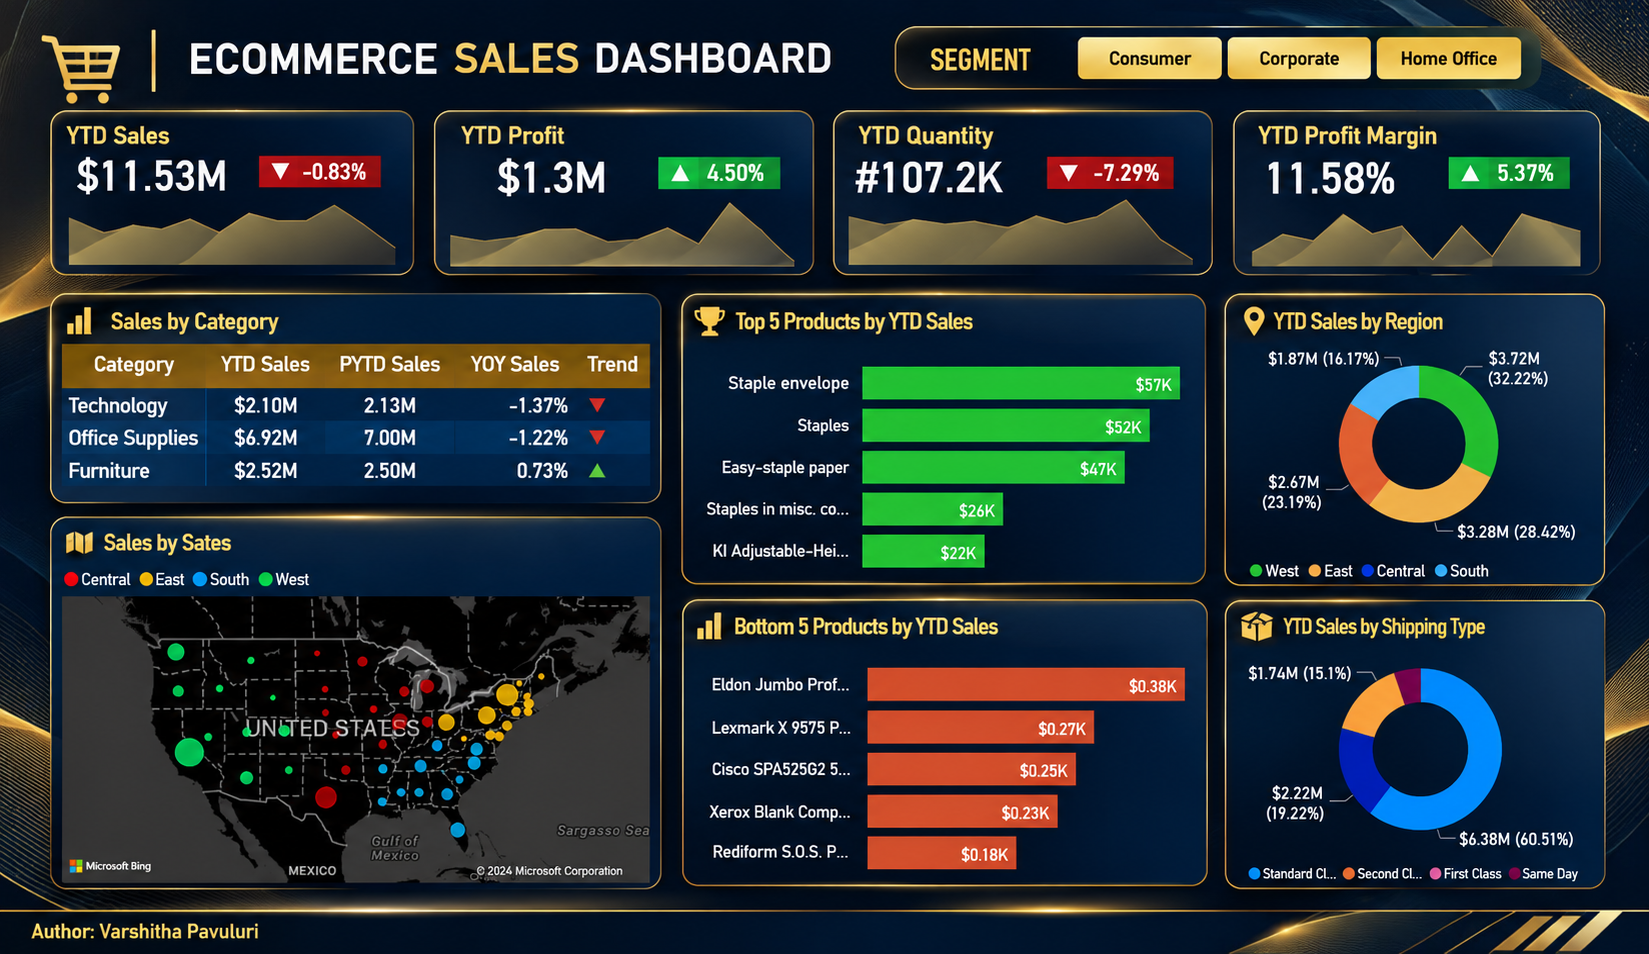

The page's visual inventory and layout, read from the dashboard file:
{"tool":"powerbi","page":{"name":"Page 1","canvas":[1280,720],"ordinal":0},"visuals":[{"type":"shape","box":[26.9,17.1,607.9,54.9],"z":0},{"type":"textbox","box":[30.5,13.4,628.7,64.7],"z":1000},{"type":"shape","box":[26,81.8,283.1,126],"z":2000},{"type":"card","fields":{"Values":["ecommerce_data.YTD Sales"]},"box":[30.5,102.5,130.6,53.7],"z":3000},{"type":"areaChart","fields":{"Category":["Calendar.Month"],"Y":["Sum(ecommerce_data.sales_per_order)"]},"box":[24.4,135.5,283.2,70.8],"z":4000},{"type":"shape","box":[186,114,100,24.4],"z":5000},{"type":"card","fields":{"Values":["ecommerce_data.YOY Sales"]},"box":[209.3,114,76.7,28],"z":6000},{"type":"card","fields":{"Values":["ecommerce_data.Sales Icon"]},"box":[164.8,112.3,76.9,29.3],"z":7000},{"type":"textbox","box":[45.2,84.2,101.3,31.7],"z":8000},{"type":"shape","box":[640.9,80.6,299.1,125.7],"z":9000},{"type":"card","fields":{"Values":["ecommerce_data.YTD Concatenated Qty"]},"box":[648.2,105,141.6,52.5],"z":10000},{"type":"areaChart","fields":{"Category":["Calendar.Month"],"Y":["Sum(ecommerce_data.order_quantity)"]},"box":[640.9,135.5,299.1,70.8],"z":11000},{"type":"shape","box":[814.3,115.3,100,24.4],"z":12000},{"type":"card","fields":{"Values":["ecommerce_data.YOY Qty"]},"box":[837.4,113.5,76.9,28.1],"z":13000},{"type":"card","fields":{"Values":["ecommerce_data.Qty Icon"]},"box":[793.4,114.7,75.7,29.3],"z":14000},{"type":"textbox","box":[664.5,84.4,129,31.4],"z":15000},{"type":"shape","box":[955.8,81.8,299.1,125.7],"z":16000},{"type":"areaChart","fields":{"Category":["Calendar.Month"],"Y":["ecommerce_data.Profit Margin"]},"box":[955.8,136.7,299.1,70.8],"z":17000},{"type":"shape","box":[1132.8,114.7,100.1,24.4],"z":18000},{"type":"card","fields":{"Values":["ecommerce_data.YOY Profit Margin"]},"box":[1156,114.7,76.9,26.9],"z":19000},{"type":"card","fields":{"Values":["ecommerce_data.Profit Margin Icon"]},"box":[1112,114.7,75.7,29.3],"z":20000},{"type":"textbox","box":[979,84.2,167.2,31.7],"z":21000},{"type":"card","fields":{"Values":["ecommerce_data.YTD Profit Margin"]},"box":[964.3,105,140.4,53.7],"z":22000},{"type":"shape","box":[23.2,224.6,489.5,159.9],"z":23000},{"type":"shape","box":[324.7,80.6,299.1,128.2],"z":24000},{"type":"card","fields":{"Values":["ecommerce_data.YTD Profit"]},"box":[334.5,106.2,163.6,53.7],"z":25000},{"type":"areaChart","fields":{"Category":["Calendar.Month"],"Y":["Sum(ecommerce_data.profit_per_order)"]},"box":[323.5,137.9,300.3,70.8],"z":26000},{"type":"shape","box":[501.8,116.4,100,24.4],"z":27000},{"type":"card","fields":{"Values":["ecommerce_data.YOY Profit"]},"box":[525,116.4,76.7,27.9],"z":28000},{"type":"card","fields":{"Values":["ecommerce_data.Profit Icon"]},"box":[480.7,114.7,76.9,29.3],"z":29000},{"type":"textbox","box":[352.8,84.2,101.3,34.2],"z":30000},{"type":"pivotTable","title":"Sales by Category","fields":{"Rows":["ecommerce_data.category_name"],"Values":["ecommerce_data.YTD Sales","ecommerce_data.PYTD Sales","ecommerce_data.YOY Sales","ecommerce_data.Sales Icon"]},"box":[30.5,235.6,484.6,148.9],"z":31000},{"type":"shape","box":[23.2,401.6,490.7,305.2],"z":32000},{"type":"map","title":"Sales by Sates","fields":{"Y":["us_state_long_lat_codes.latitude"],"X":["us_state_long_lat_codes.longitude"],"Size":["ecommerce_data.YTD Sales"],"Series":["ecommerce_data.customer_region"]},"box":[26.9,410.1,482.2,296.6],"z":33000},{"type":"shape","box":[527.3,224.6,412.6,231.9],"z":34000},{"type":"shape","box":[528.6,471.2,411.4,231.9],"z":35000},{"type":"barChart","title":"Top 5 Products by YTD Sales","fields":{"Category":["ecommerce_data.product_name"],"Y":["ecommerce_data.YTD Sales"]},"box":[530.6,232.6,411.4,232.6],"z":36000},{"type":"barChart","title":"Bottom 5 Products by YTD Sales","fields":{"Category":["ecommerce_data.product_name"],"Y":["ecommerce_data.YTD Sales"]},"box":[532,476.8,411.4,235.5],"z":37000},{"type":"shape","box":[955.8,224.6,299.1,231.9],"z":38000},{"type":"shape","box":[648.2,17.1,606.7,54.9],"z":38500},{"type":"shape","box":[955.8,471.2,302.7,231.9],"z":39000},{"type":"donutChart","title":"YTD Sales by Region","fields":{"Y":["ecommerce_data.YTD Sales"],"Category":["ecommerce_data.customer_region"]},"box":[961.9,231.9,293,231.9],"z":40000},{"type":"donutChart","title":"YTD Sales by Shipping Type","fields":{"Y":["ecommerce_data.YTD Sales"],"Category":["ecommerce_data.shipping_type"]},"box":[964.3,479.7,293,231.9],"z":42000},{"type":"slicer","fields":{"Values":["ecommerce_data.customer_segment"]},"box":[849.6,22,405.3,45.2],"z":42001},{"type":"textbox","box":[703.1,24.4,146.5,47.6],"z":42002}]}

Visuals, with their boxes in screenshot pixels (x1, y1, x2, y2), scaled from the page's 1280x720 canvas onto the 1649x954 screenshot:
shape: x1=35 y1=23 x2=818 y2=95
textbox: x1=39 y1=18 x2=849 y2=103
shape: x1=33 y1=108 x2=398 y2=275
card - ecommerce_data.YTD Sales: x1=39 y1=136 x2=208 y2=207
areaChart - Calendar.Month x Sum(ecommerce_data.sales_per_order): x1=31 y1=180 x2=396 y2=273
shape: x1=240 y1=151 x2=368 y2=183
card - ecommerce_data.YOY Sales: x1=270 y1=151 x2=368 y2=188
card - ecommerce_data.Sales Icon: x1=212 y1=149 x2=311 y2=188
textbox: x1=58 y1=112 x2=189 y2=154
shape: x1=826 y1=107 x2=1211 y2=273
card - ecommerce_data.YTD Concatenated Qty: x1=835 y1=139 x2=1017 y2=209
areaChart - Calendar.Month x Sum(ecommerce_data.order_quantity): x1=826 y1=180 x2=1211 y2=273
shape: x1=1049 y1=153 x2=1178 y2=185
card - ecommerce_data.YOY Qty: x1=1079 y1=150 x2=1178 y2=188
card - ecommerce_data.Qty Icon: x1=1022 y1=152 x2=1120 y2=191
textbox: x1=856 y1=112 x2=1022 y2=153
shape: x1=1231 y1=108 x2=1617 y2=275
areaChart - Calendar.Month x ecommerce_data.Profit Margin: x1=1231 y1=181 x2=1617 y2=275
shape: x1=1459 y1=152 x2=1588 y2=184
card - ecommerce_data.YOY Profit Margin: x1=1489 y1=152 x2=1588 y2=188
card - ecommerce_data.Profit Margin Icon: x1=1433 y1=152 x2=1530 y2=191
textbox: x1=1261 y1=112 x2=1477 y2=154
card - ecommerce_data.YTD Profit Margin: x1=1242 y1=139 x2=1423 y2=210
shape: x1=30 y1=298 x2=661 y2=509
shape: x1=418 y1=107 x2=804 y2=277
card - ecommerce_data.YTD Profit: x1=431 y1=141 x2=642 y2=212
areaChart - Calendar.Month x Sum(ecommerce_data.profit_per_order): x1=417 y1=183 x2=804 y2=277
shape: x1=646 y1=154 x2=775 y2=187
card - ecommerce_data.YOY Profit: x1=676 y1=154 x2=775 y2=191
card - ecommerce_data.Profit Icon: x1=619 y1=152 x2=718 y2=191
textbox: x1=455 y1=112 x2=585 y2=157
"Sales by Category" pivotTable: x1=39 y1=312 x2=664 y2=509
shape: x1=30 y1=532 x2=662 y2=937
"Sales by Sates" map: x1=35 y1=543 x2=656 y2=936
shape: x1=679 y1=298 x2=1211 y2=605
shape: x1=681 y1=624 x2=1211 y2=932
"Top 5 Products by YTD Sales" barChart: x1=684 y1=308 x2=1214 y2=616
"Bottom 5 Products by YTD Sales" barChart: x1=685 y1=632 x2=1215 y2=944
shape: x1=1231 y1=298 x2=1617 y2=605
shape: x1=835 y1=23 x2=1617 y2=95
shape: x1=1231 y1=624 x2=1621 y2=932
"YTD Sales by Region" donutChart: x1=1239 y1=307 x2=1617 y2=615
"YTD Sales by Shipping Type" donutChart: x1=1242 y1=636 x2=1620 y2=943
slicer - ecommerce_data.customer_segment: x1=1095 y1=29 x2=1617 y2=89
textbox: x1=906 y1=32 x2=1095 y2=95
